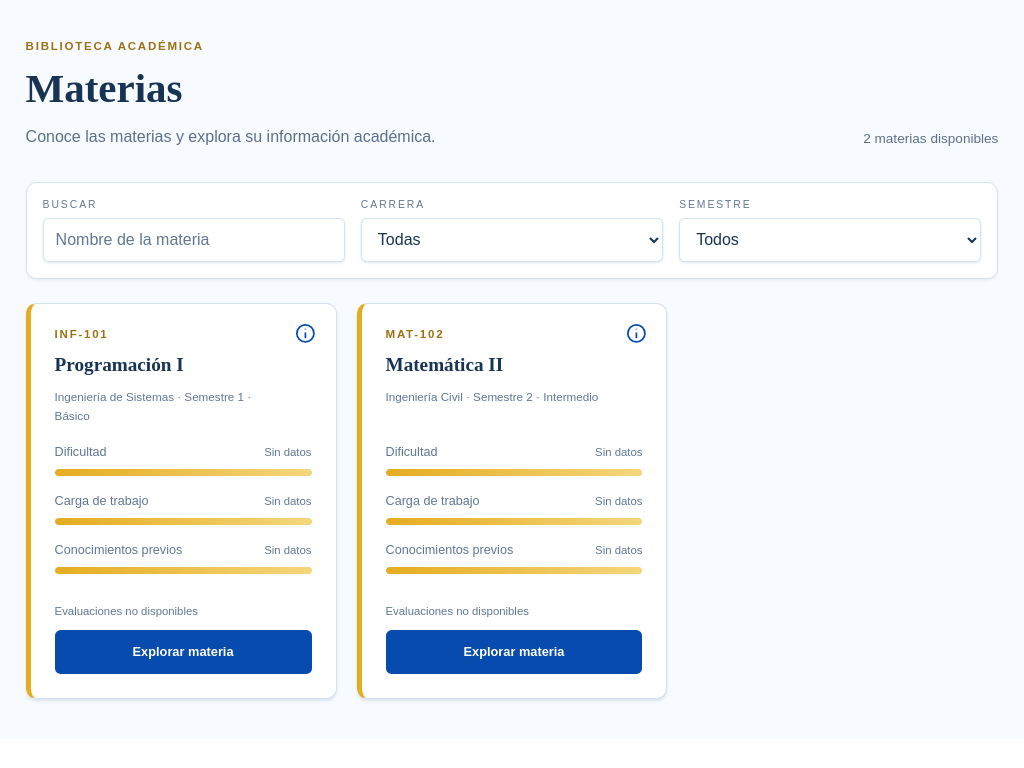
HU-02: buscar materia por nombre mediante el backend › consulta de nuevo el catálogo completo al limpiar y devuelve el foco al campo
The width and height of the screenshot is (1024, 768).
In the search field labelled "Buscar": (194, 240) [43, 218, 345, 262], type "Química"
Wait 300 ms
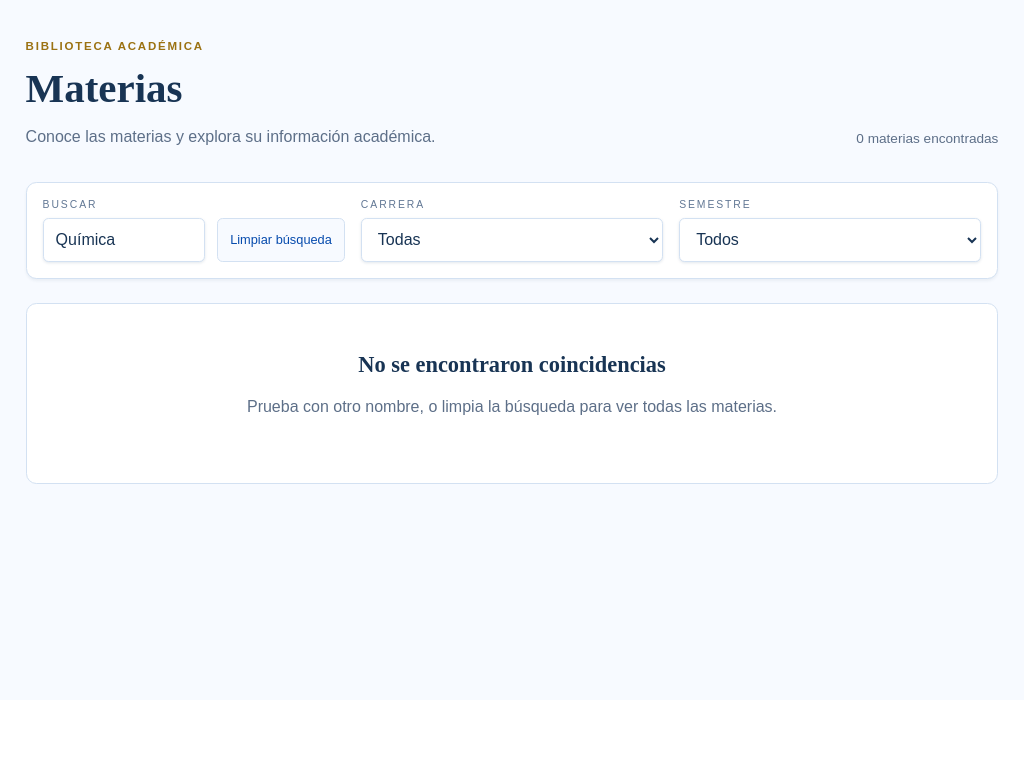
Click the button "Limpiar búsqueda": (281, 240) [217, 218, 345, 262]
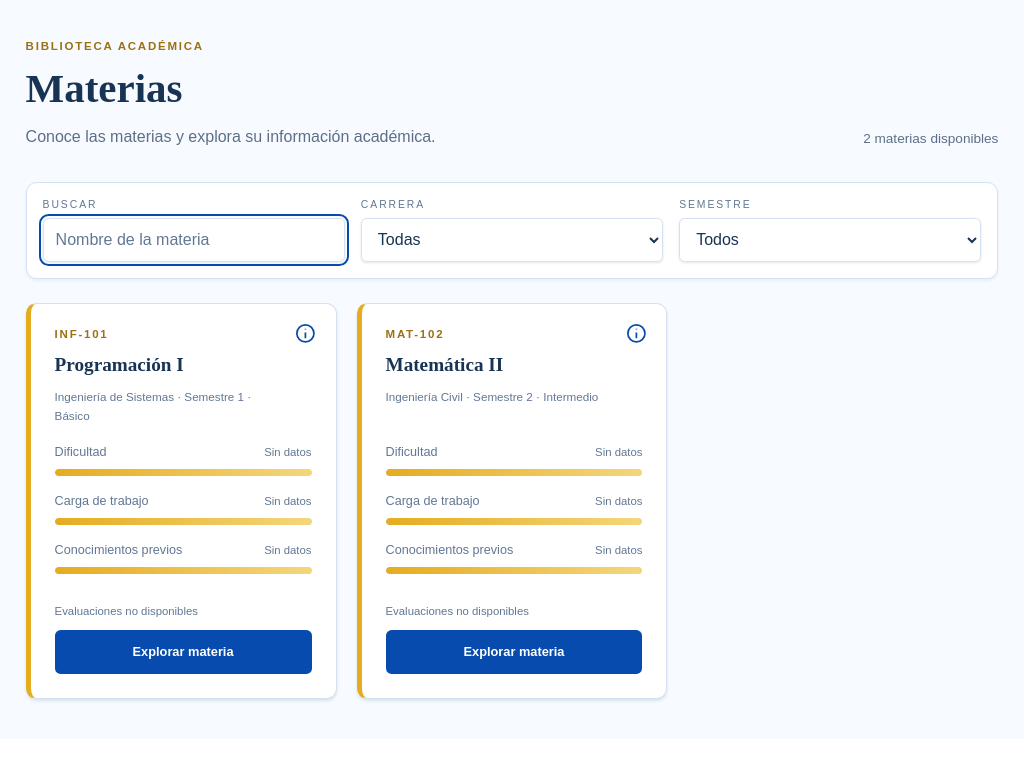
expect the search field labelled "Buscar" is empty: met, box [43, 218, 345, 262]
expect the message is gone: met
